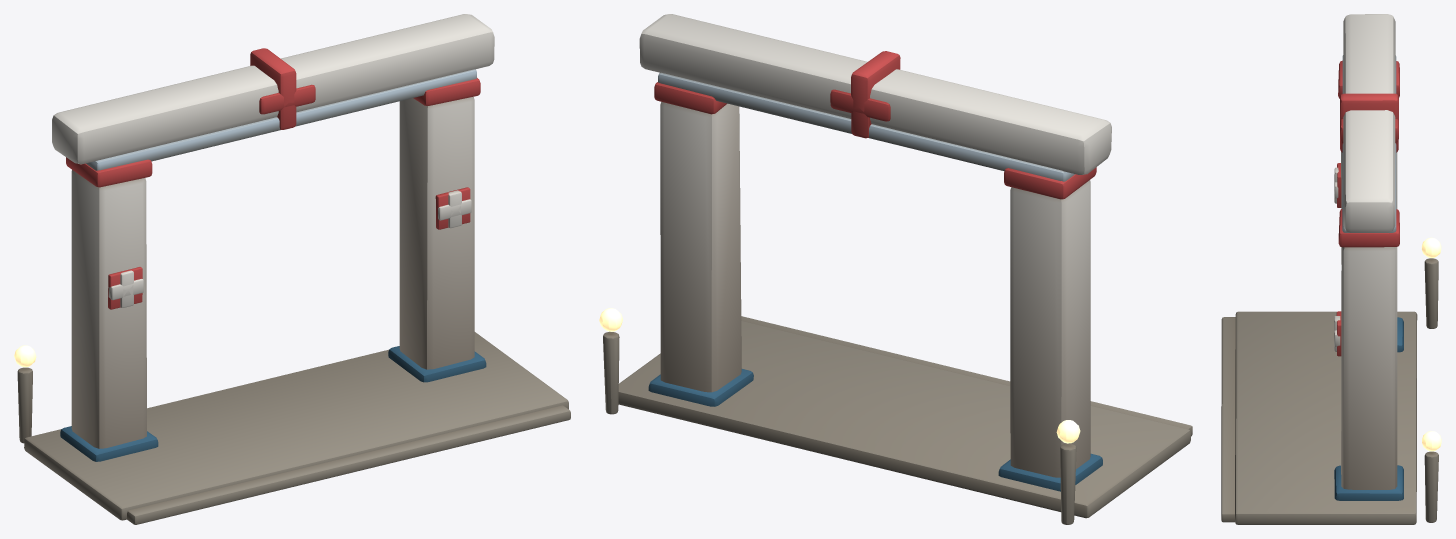
3 renders of one model, left to right at view 1: azimuth 30°, elevation 25°; view 2: azimuth 150°, elevation 25°; view 3: azimuth 270°, elevation 25°, orthographic. The views are drawn at different scales.
Visible parts, largest first — view 1: gate_48bbeb17; view 2: gate_48bbeb17; view 3: gate_48bbeb17.
Boxes of the visible parts, x1,y1,x2,y2 form: gate_48bbeb17: (14,14,570,524); gate_48bbeb17: (599,14,1192,524); gate_48bbeb17: (1221,14,1441,524).
Size of the model in its own units: 5.54 by 4.2 by 2.55.
